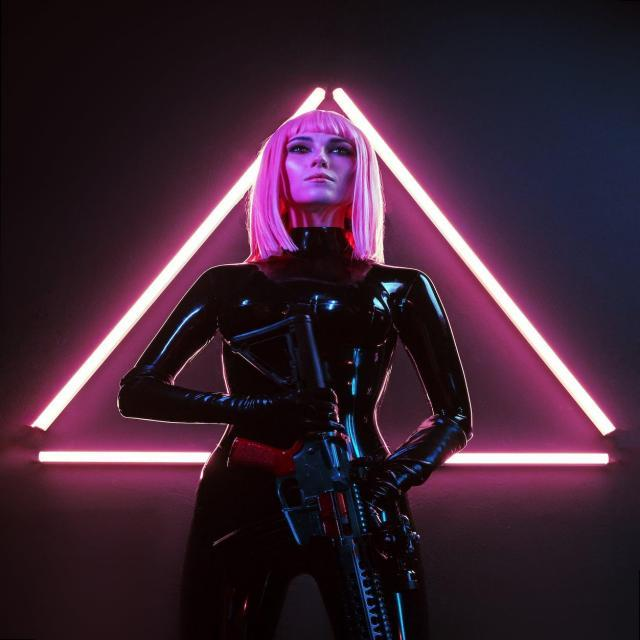weapon: (227, 312, 422, 640)
